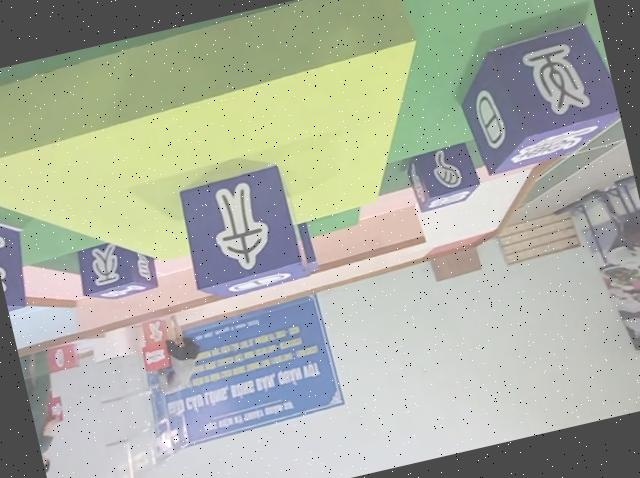R2 Fake Blue: (449, 18, 626, 176), (176, 159, 307, 301), (71, 231, 159, 305), (401, 139, 482, 213)
